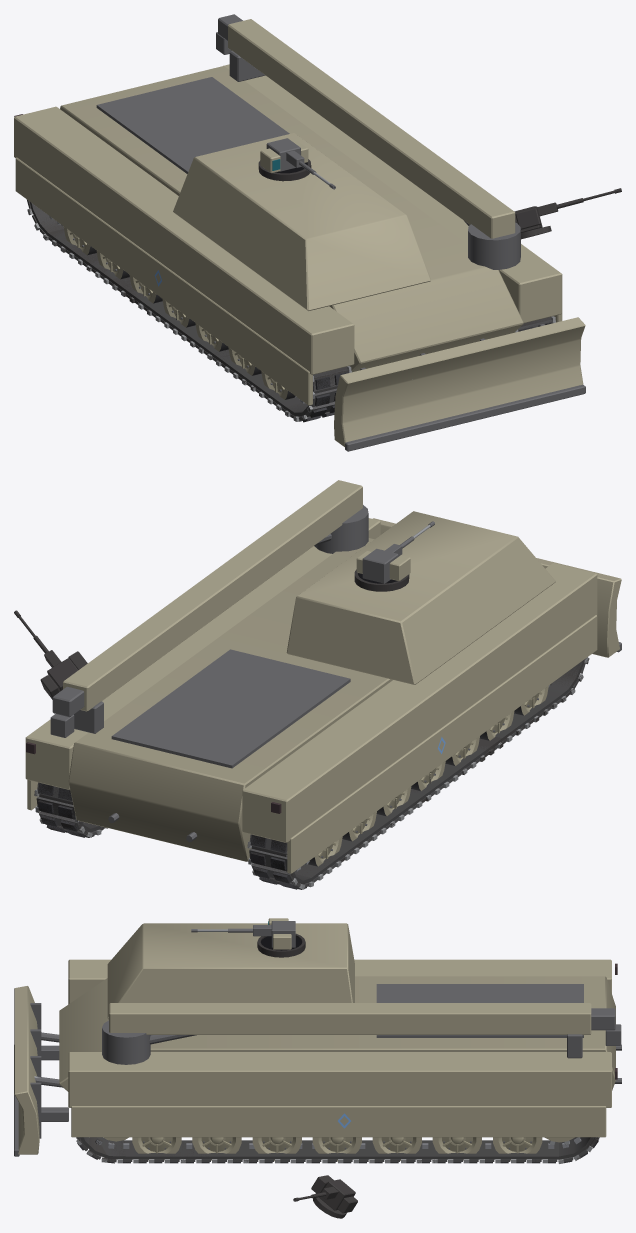
File: recoveryVehicle__bergepanzer_3_buffel.glb
3 views of the same model, one above another, from view 1: azimuth 30°, elevation 25°; view 2: azimuth 150°, elevation 25°; view 3: azimuth 270°, elevation 25° (orthographic). The views are drawn at different scales.
Parts seen in each view (by area): view 1: Hull_Mesh, Track_L_Mesh, Wreck, Turret_Mesh; view 2: Hull_Mesh, Track_L_Mesh, Wreck, Track_R_Mesh, Turret_Mesh; view 3: Hull_Mesh, Track_R_Mesh, Wreck, Wheel_R4_Mesh, Wheel_R6_Mesh, Turret_Mesh, Wheel_R0_Mesh, Wheel_R3_Mesh, Wheel_R2_Mesh, Wheel_R5_Mesh, Wheel_R1_Mesh, Gun_Mesh.
Boxes of the visible parts, x1,y1,x2,y2 form: Hull_Mesh: [14, 14, 585, 451]; Track_L_Mesh: [26, 199, 351, 422]; Wreck: [28, 159, 621, 421]; Turret_Mesh: [260, 138, 308, 173]; Hull_Mesh: [25, 480, 621, 873]; Track_L_Mesh: [247, 657, 589, 889]; Wreck: [14, 569, 588, 889]; Track_R_Mesh: [34, 782, 107, 837]; Turret_Mesh: [356, 548, 410, 583]; Hull_Mesh: [14, 923, 621, 1156]; Track_R_Mesh: [76, 1137, 598, 1163]; Wreck: [76, 933, 599, 1218]; Wheel_R4_Mesh: [252, 1137, 301, 1161]; Wheel_R6_Mesh: [132, 1137, 181, 1160]; Turret_Mesh: [268, 918, 295, 949]; Wheel_R0_Mesh: [493, 1137, 542, 1160]; Wheel_R3_Mesh: [312, 1137, 361, 1161]; Wheel_R2_Mesh: [372, 1137, 421, 1160]; Wheel_R5_Mesh: [192, 1137, 241, 1160]; Wheel_R1_Mesh: [432, 1137, 481, 1160]; Gun_Mesh: [191, 925, 271, 936].
Size of what is drawn, in the model's own units: 6.43 by 2.62 by 8.5.
